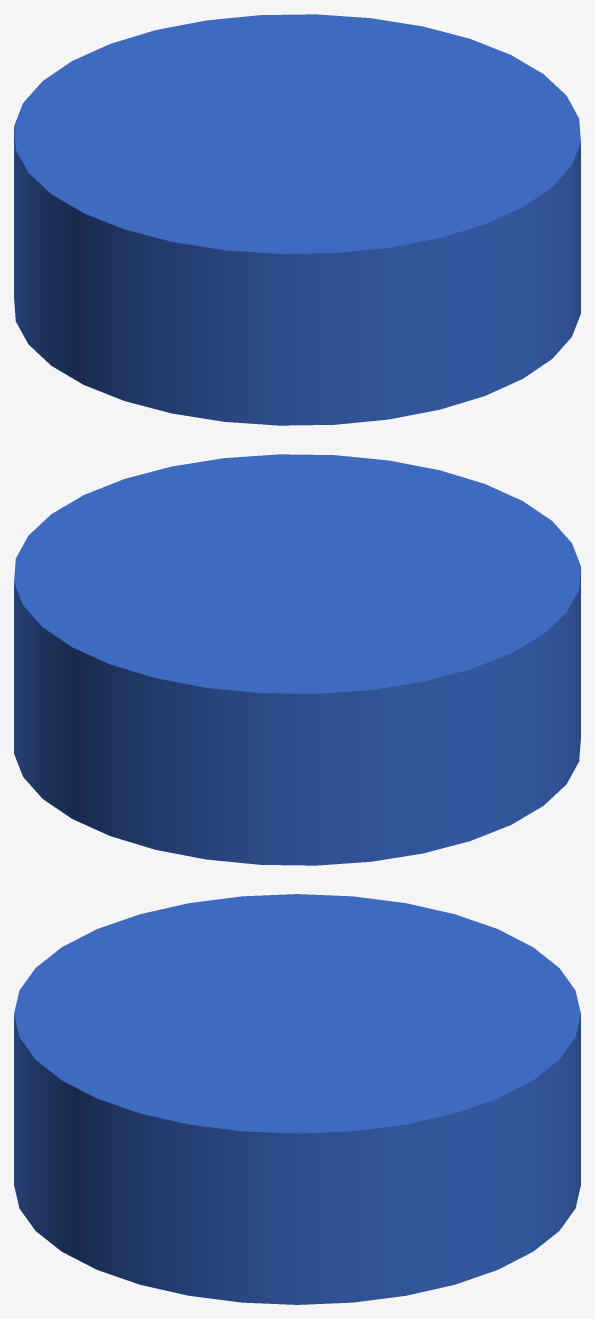
The model's file is seal_carrier.glb.
The picture shows the model from 3 angles, top to bottom: view 1: azimuth 30°, elevation 25°; view 2: azimuth 150°, elevation 25°; view 3: azimuth 270°, elevation 25°; orthographic projection.
Parts seen in each view (by area): view 1: seal_carrier; view 2: seal_carrier; view 3: seal_carrier.
Boxes of the visible parts, x1,y1,x2,y2 form: seal_carrier: [14, 14, 580, 425]; seal_carrier: [14, 454, 580, 865]; seal_carrier: [14, 894, 580, 1304].
Bounding box in the file's own units: 0.06 × 0.02 × 0.06.
